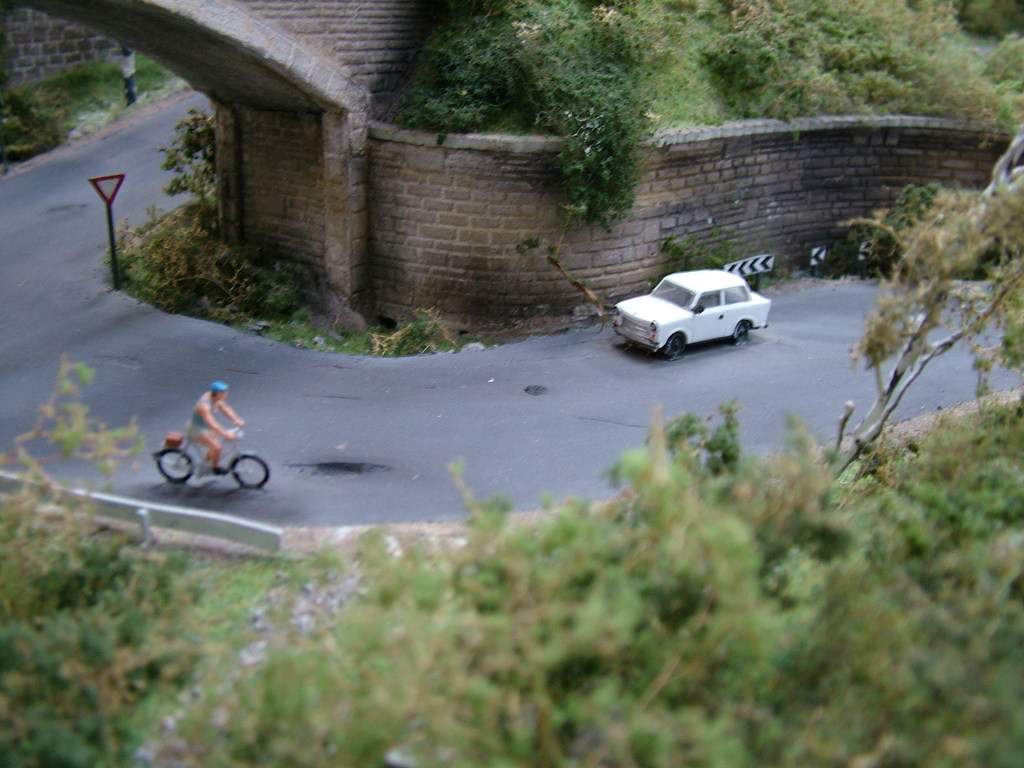Bike_away: (147, 421, 274, 493)
